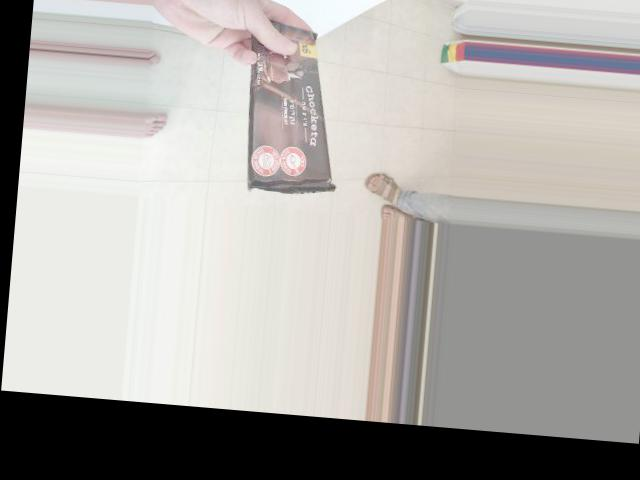chocolate: (223, 20, 351, 201)
